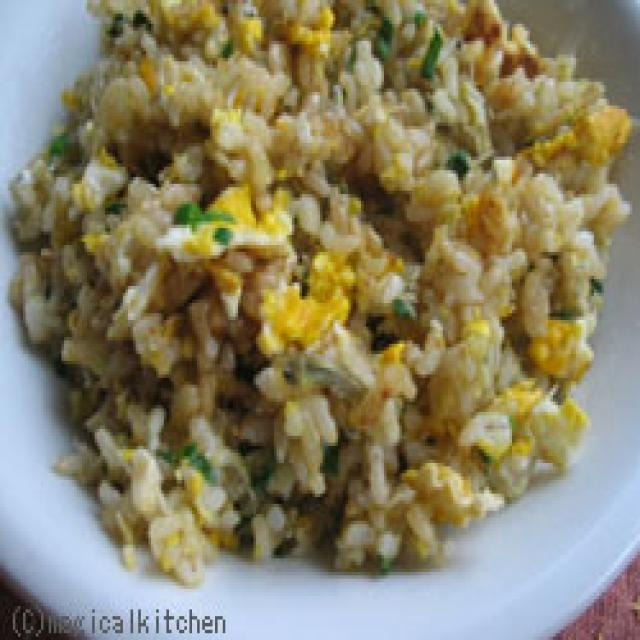米饭主食: (0, 0, 640, 592)
